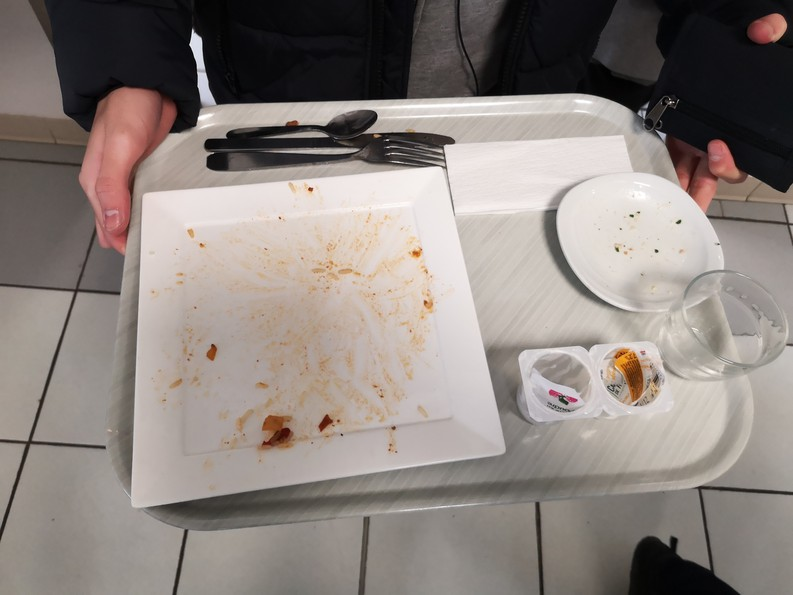cup: (671, 258, 793, 401)
cutlery: (197, 112, 465, 170)
trash: (440, 135, 644, 215), (513, 341, 670, 427)
